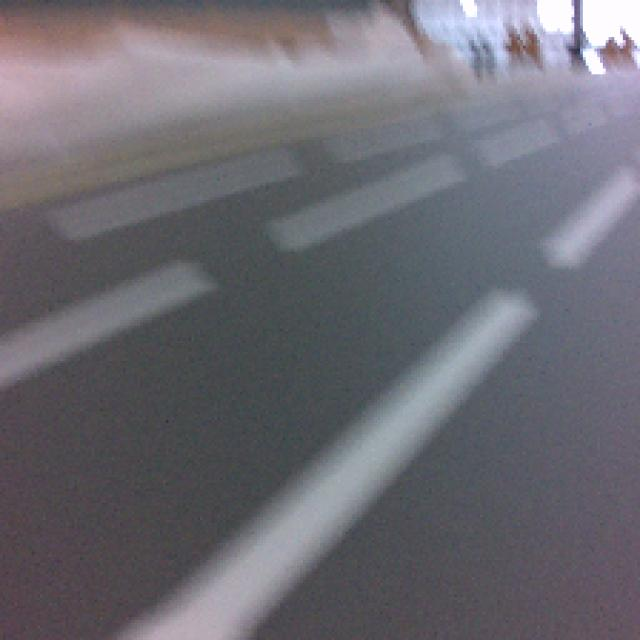Guard rail: (120, 289, 540, 640)
